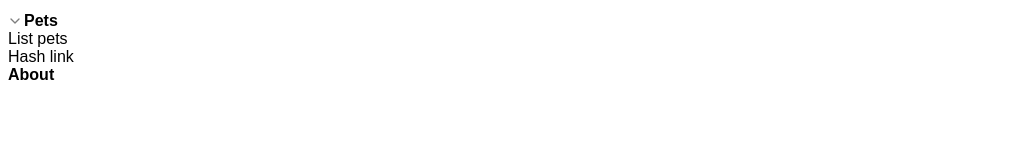
NavTree collapsible-group a11y › exposes aria-expanded on collapsible group toggles and updates it on toggle
This screenshot has width=1024, height=160.
Click the button "Pets": point(41, 20) left=8, top=12, right=1016, bottom=30
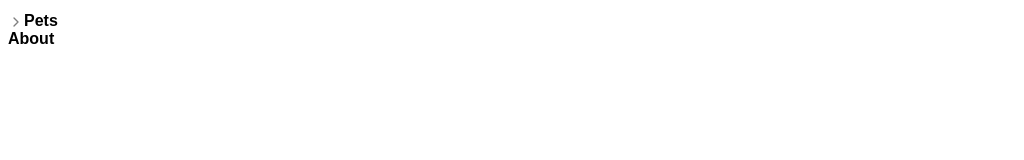
Expected: the button "Pets" is collapsed, left=8, top=12, right=1016, bottom=30
